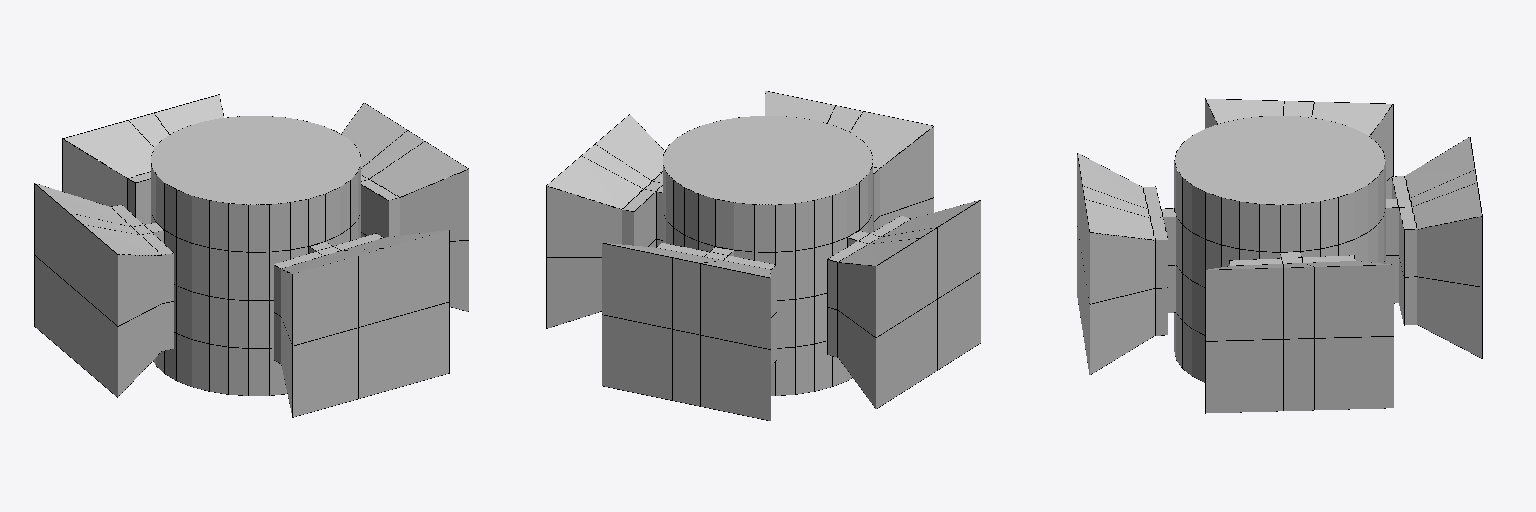
The picture shows the model from 3 angles: view 1: azimuth 30°, elevation 25°; view 2: azimuth 150°, elevation 25°; view 3: azimuth 270°, elevation 25°; orthographic projection.
Visible parts, largest first — view 1: Support_speaker_Cylinder; view 2: Support_speaker_Cylinder; view 3: Support_speaker_Cylinder.
Part boxes in pixels (x1,y1,x2,y2): Support_speaker_Cylinder: (34, 94, 468, 417); Support_speaker_Cylinder: (546, 91, 980, 420); Support_speaker_Cylinder: (1077, 98, 1482, 413).
Bounding box in the file's own units: 2.89 × 1.5 × 2.89.
Materials: 1 (1 with a texture image).